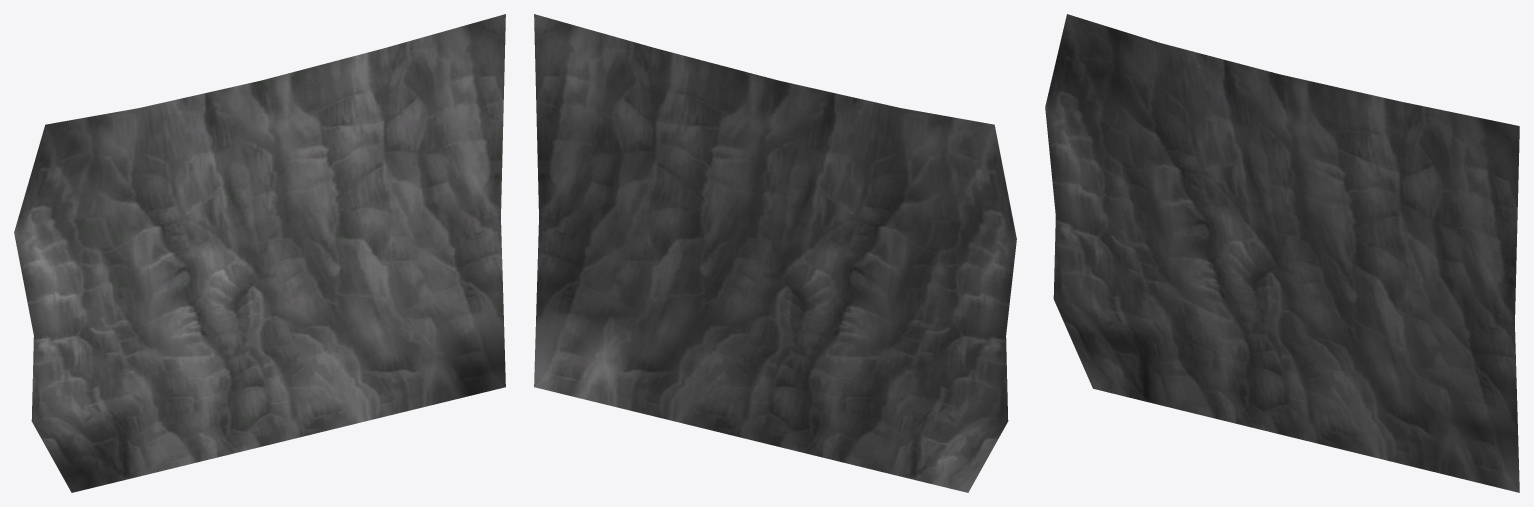
File: SWORDLIGHT20_PS-AREA01_30.fbx
The picture shows the model from 3 angles, left to right: view 1: azimuth 30°, elevation 25°; view 2: azimuth 150°, elevation 25°; view 3: azimuth 330°, elevation 25°; orthographic projection.
Parts seen in each view (by area): view 1: SWORDLIGHT20_PS-AREA01_30; view 2: SWORDLIGHT20_PS-AREA01_30; view 3: SWORDLIGHT20_PS-AREA01_30.
Part boxes in pixels (left/top/right/bottom): SWORDLIGHT20_PS-AREA01_30: left=14, top=14, right=505, bottom=492; SWORDLIGHT20_PS-AREA01_30: left=534, top=14, right=1016, bottom=492; SWORDLIGHT20_PS-AREA01_30: left=1045, top=14, right=1519, bottom=492.
Size of the model in its own units: 54821 by 40295 by 876.
1 material, 1 textured.
